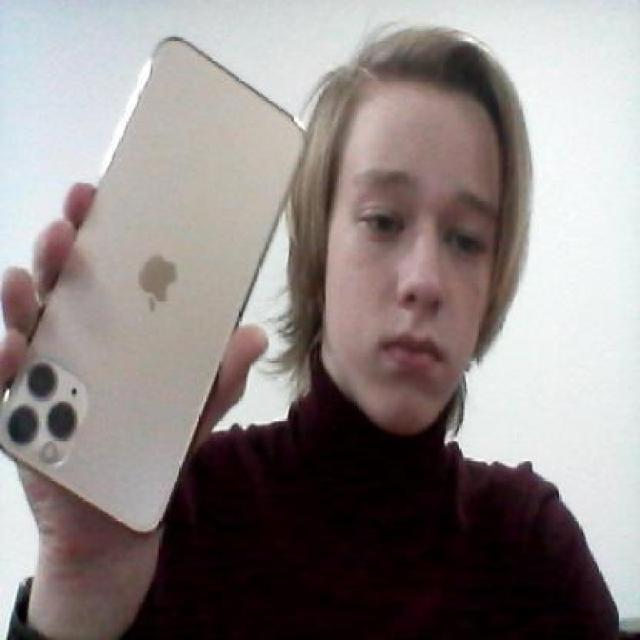mobile: (1, 37, 317, 545)
